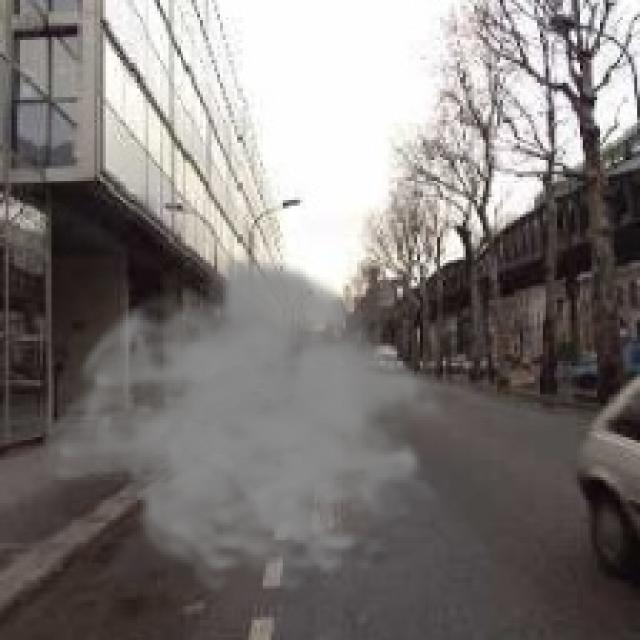smoke: (37, 252, 463, 594)
